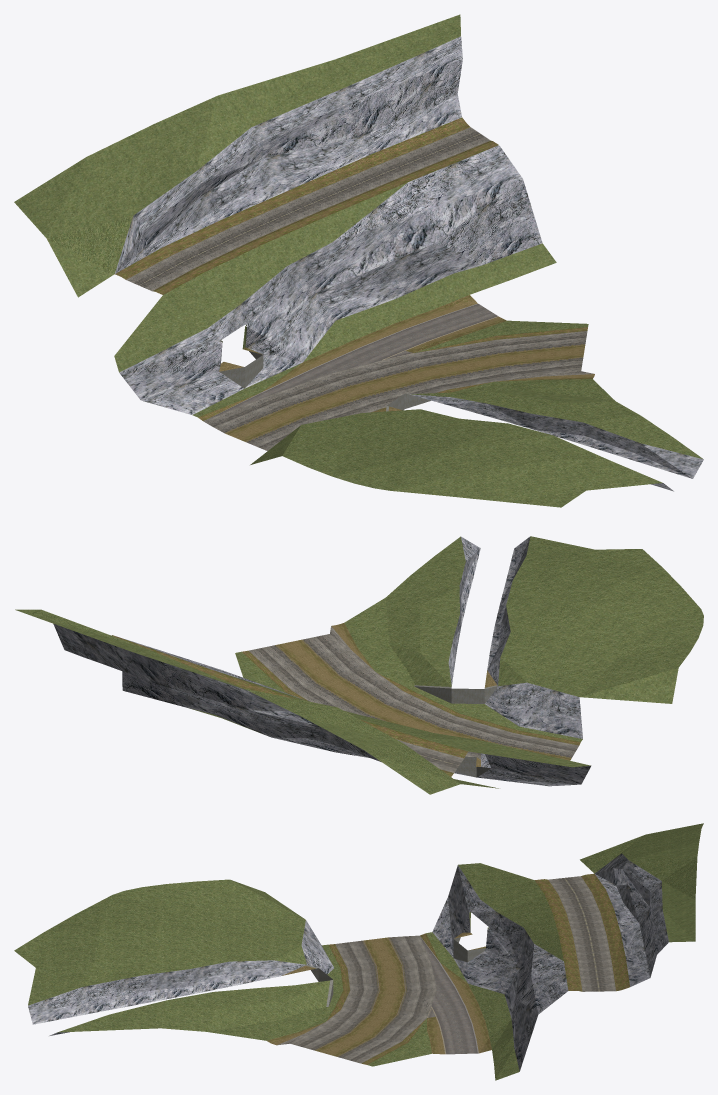
Rendered from ne_bit_10.obj.
3 views of the same model, one above another, from view 1: azimuth 30°, elevation 25°; view 2: azimuth 150°, elevation 25°; view 3: azimuth 270°, elevation 25° (orthographic). The views are drawn at different scales.
Parts seen in each view (by area): view 1: ne_bit_10; view 2: ne_bit_10; view 3: ne_bit_10.
Boxes of the visible parts, <box> form: ne_bit_10: <box>14,14,703,507</box>; ne_bit_10: <box>15,536,703,794</box>; ne_bit_10: <box>14,823,703,1080</box>.
Bounding box in the file's own units: 174 × 68.3 × 245.
12 materials, 12 textured.
